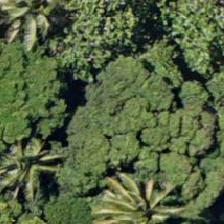Kelapa_Sawit: (87, 167, 177, 224)
